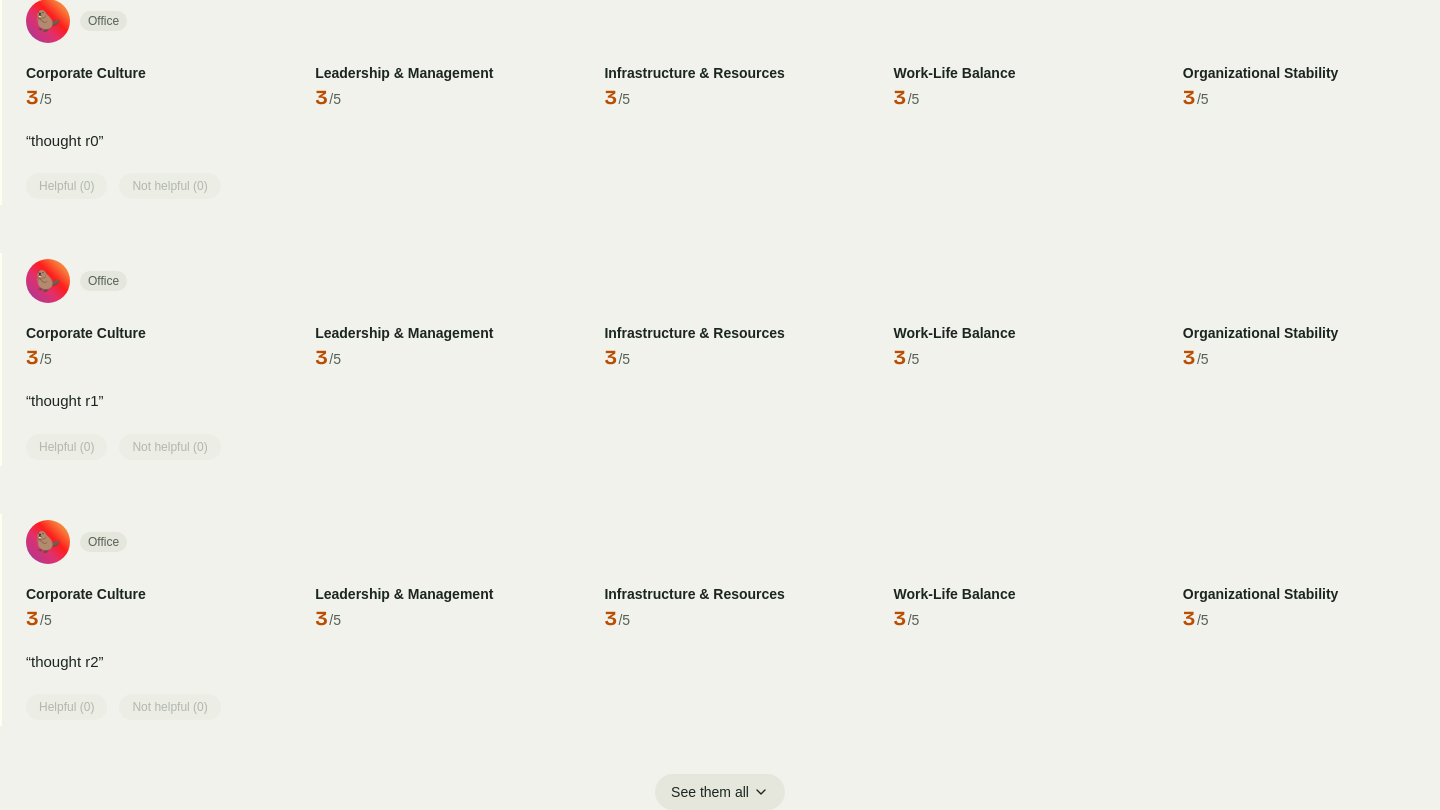
it: shows only initialVisibleCount reviews with a 'See them all' toggle
(page scrolled)
Expected: the text "“thought r0”" is shown, [26, 132, 104, 149]
Expected: the text "thought r3" is not shown
Click the button "See them all" at [720, 792], box [655, 774, 785, 809]
(page scrolled)
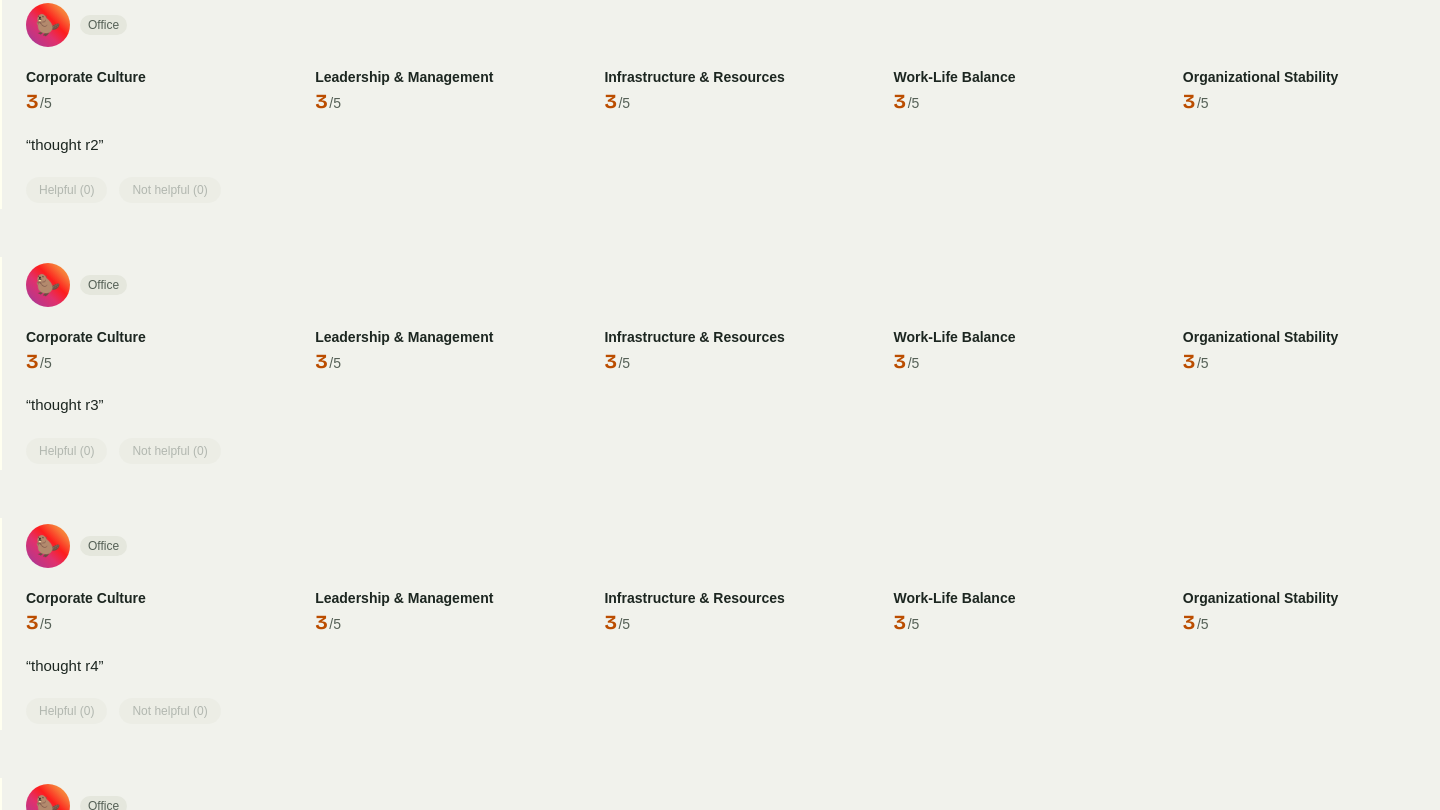
Expected: the text "“thought r3”" is shown, [26, 396, 104, 413]
